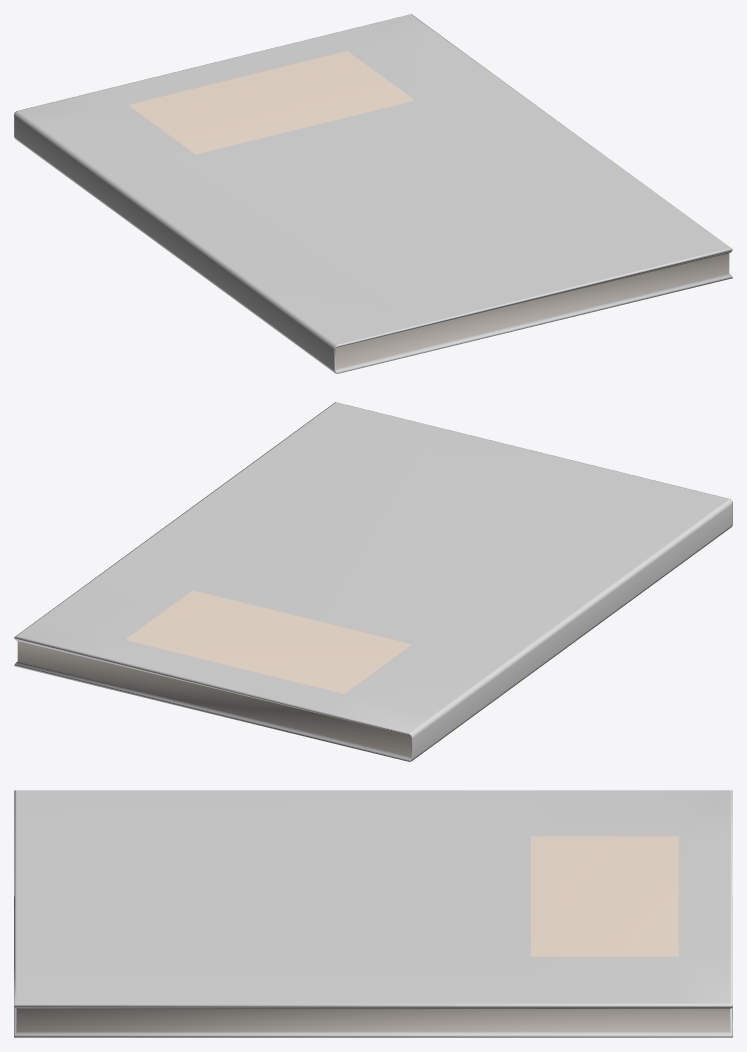
Rendered from Heft.fbx.
The picture shows the model from 3 angles, top to bottom: view 1: azimuth 30°, elevation 25°; view 2: azimuth 150°, elevation 25°; view 3: azimuth 270°, elevation 25°; orthographic projection. The views are drawn at different scales.
Parts seen in each view (by area): view 1: Heft; view 2: Heft; view 3: Heft.
Part boxes in pixels (x1=…): Heft: x1=14, y1=14, x2=732, y2=373; Heft: x1=14, y1=402, x2=732, y2=761; Heft: x1=14, y1=790, x2=732, y2=1037.
Size of the model in its own units: 28.14 by 2.18 by 39.34.
